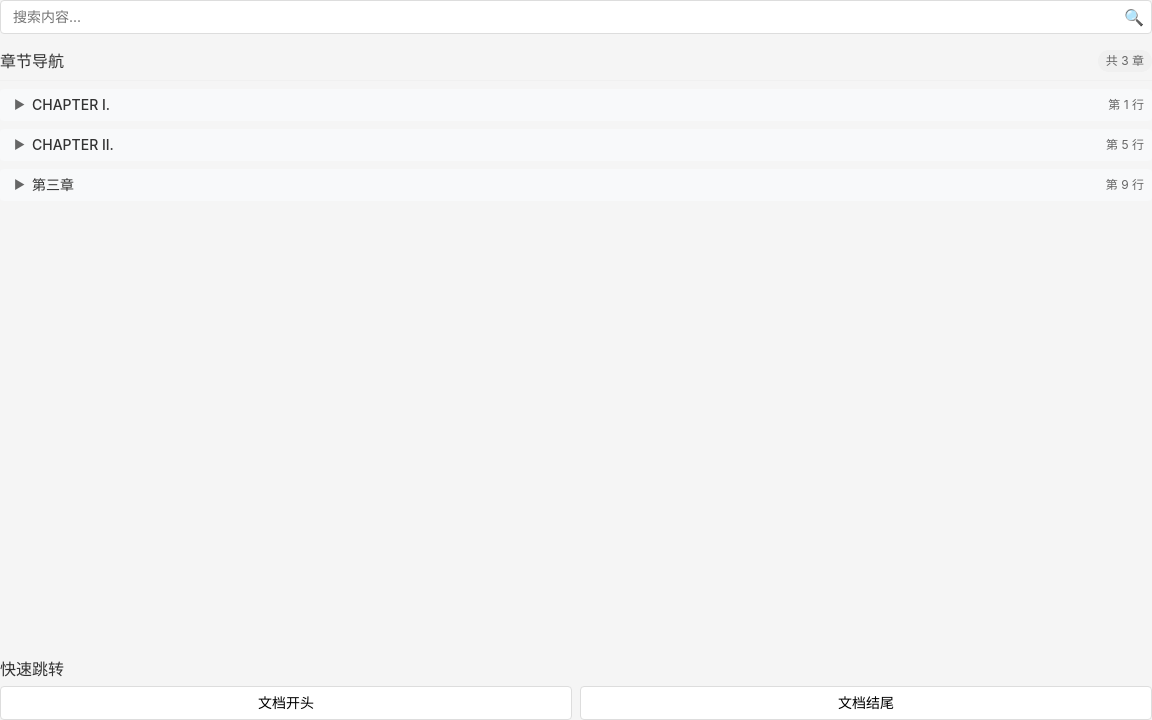
NavigationPanel › handles search functionality
The width and height of the screenshot is (1152, 720).
Type "first" into the field with placeholder "搜索内容..." at {"x": 576, "y": 17}, box [0,0,1151,34]
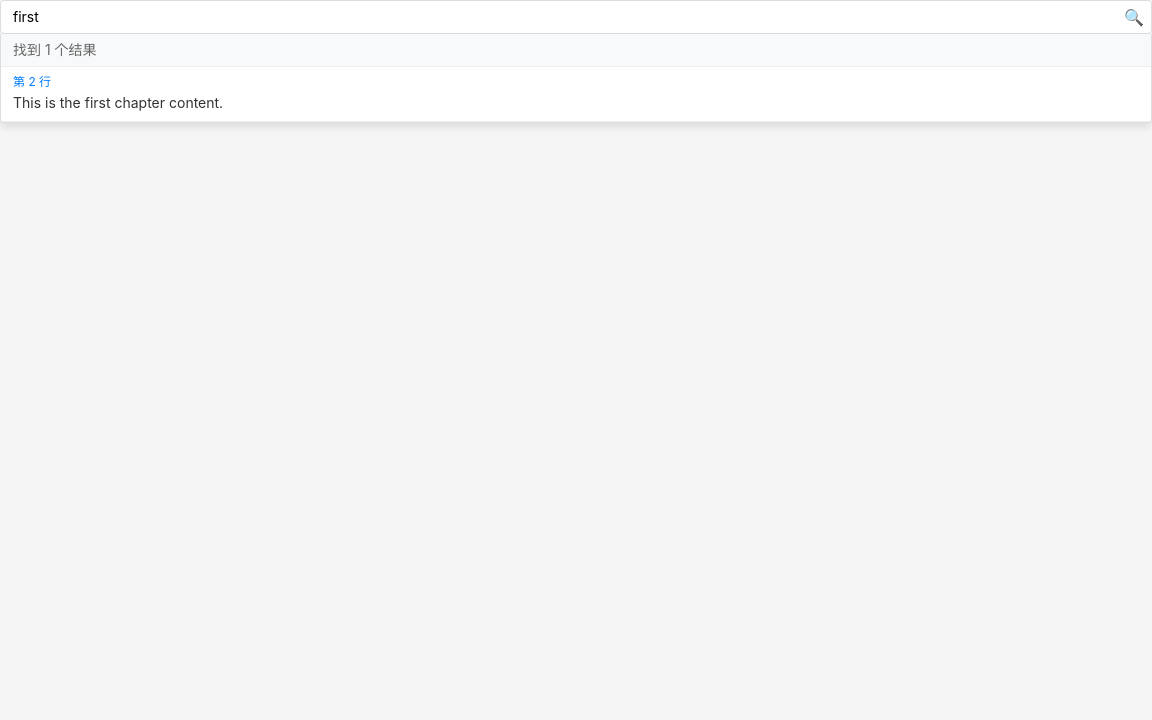
Now the text "找到 1 个结果" is shown, box [1,34,1151,67]
Now the text "第 2 行" is shown, box [13,74,51,89]
